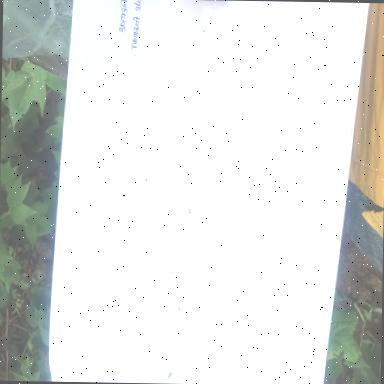pbw: (217, 156, 220, 164)
